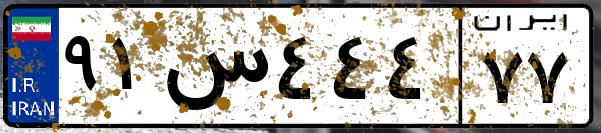1: (110, 28, 158, 98)
4: (270, 28, 330, 110), (385, 28, 445, 110), (330, 28, 385, 110)
7: (475, 38, 525, 113), (525, 38, 570, 115)
9: (57, 26, 110, 100)
س: (158, 20, 270, 120)
